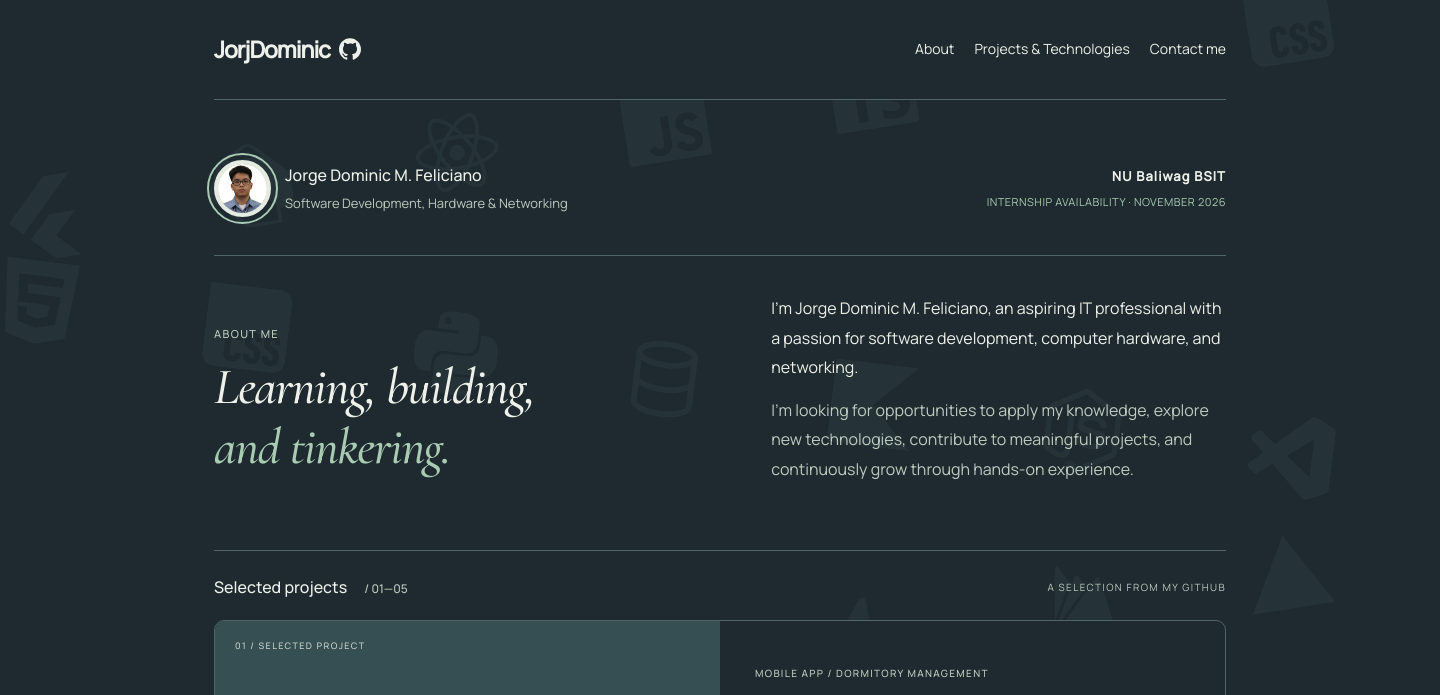
it: profile photo enlarges, closes with Escape, and restores focus
Click the button named "Enlarge profile photo" at (242, 188), box top-left (214, 160), bottom-right (271, 217)
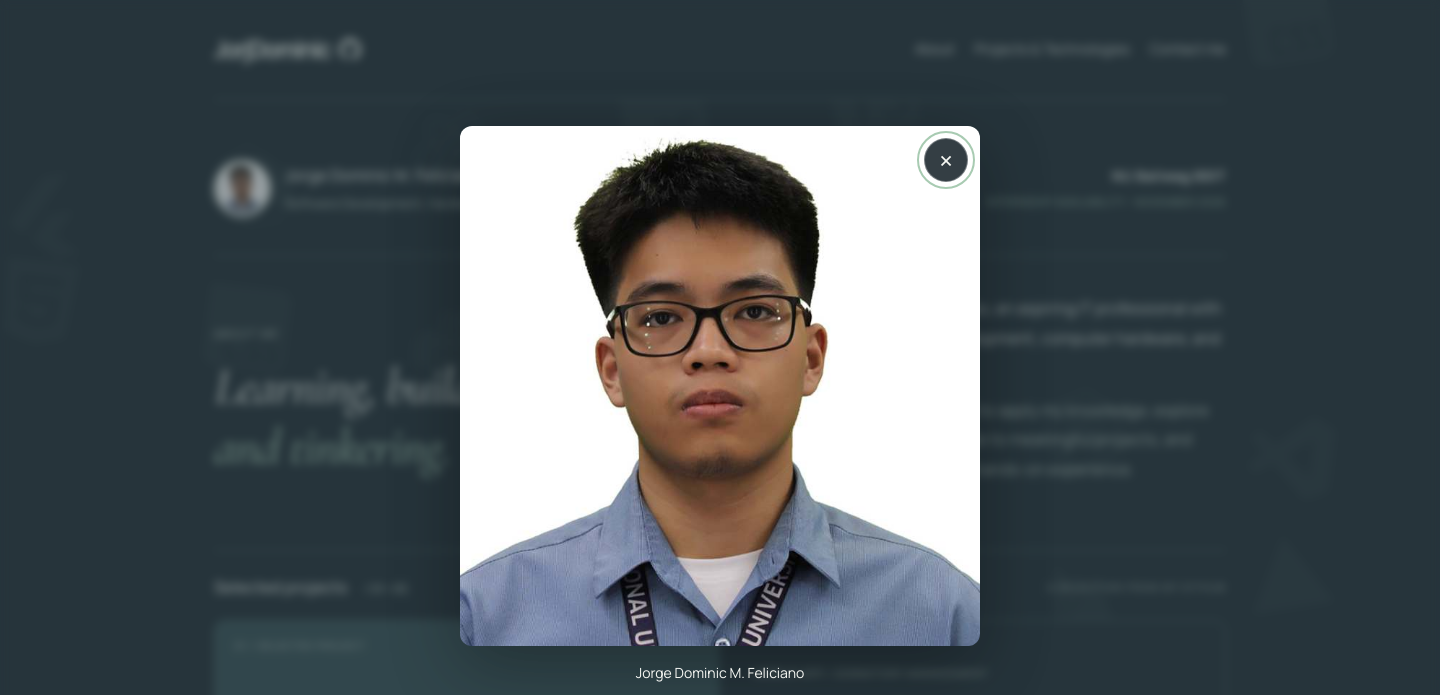
Now the dialog named "Profile photo of Jorge" is shown, box top-left (460, 126), bottom-right (980, 684)
Press Tab
Press Escape
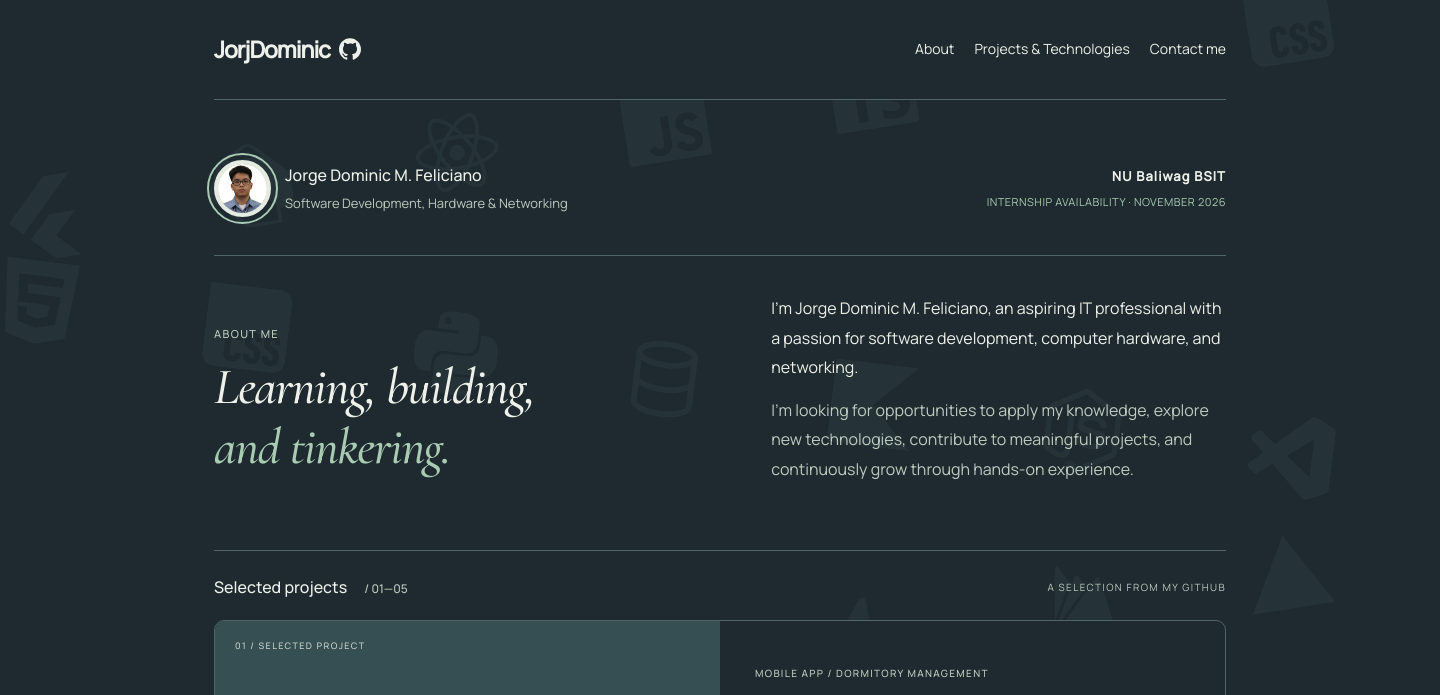
Now the dialog is gone
